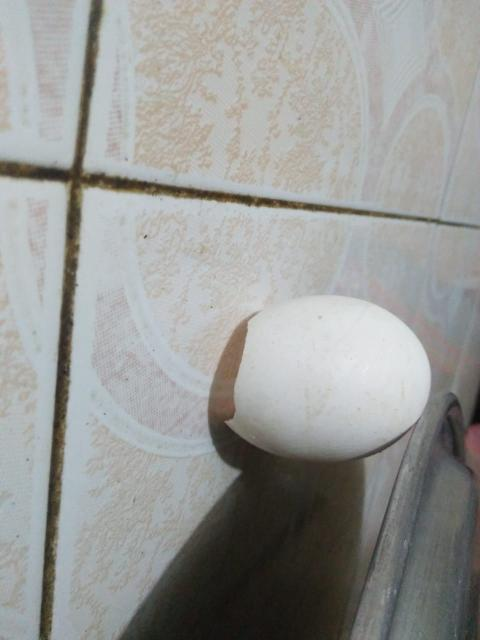Roto: (224, 293, 432, 464)
